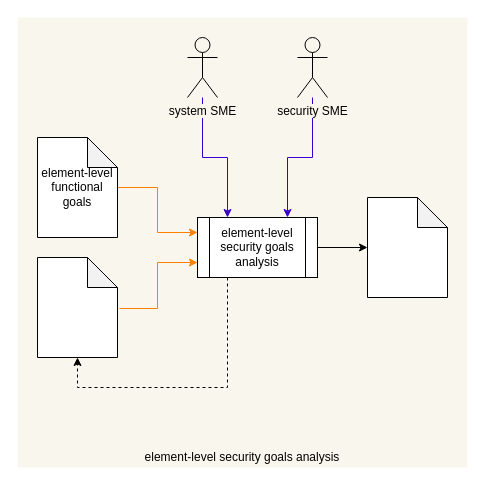
This 484x484 diagram has some shape labels left out. The shapes that lost their labels are listed below. From the top down, each one's centre as x and y in pixels, then its label:
pixel 407 247: element-level security goals
pixel 77 307: global security goals
